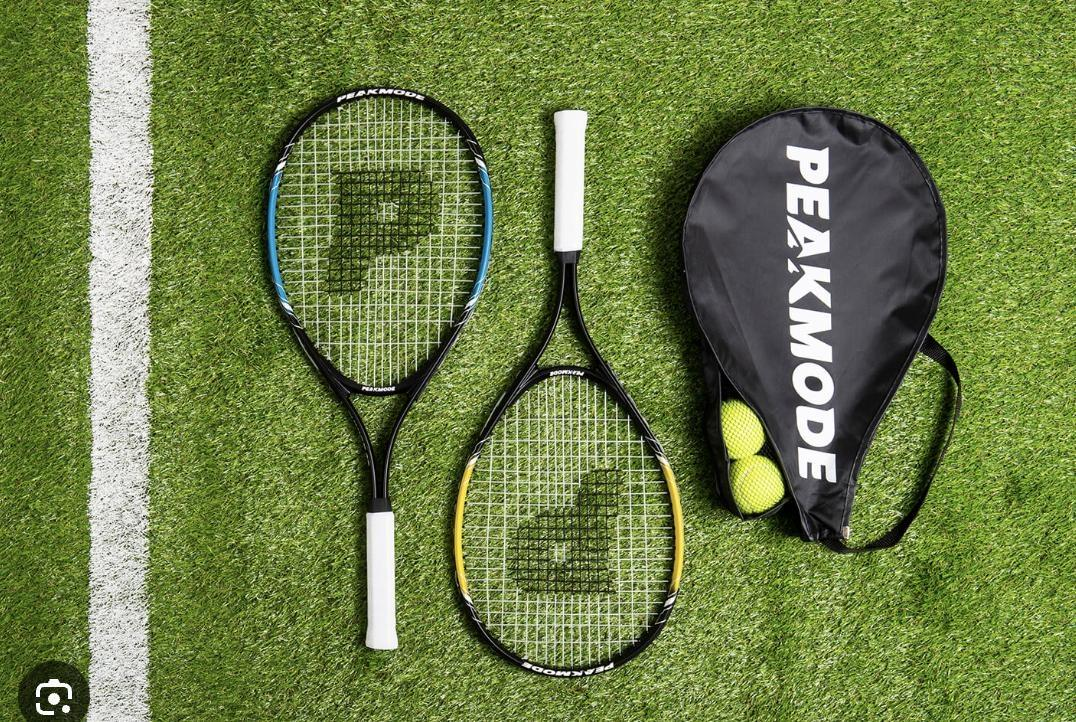Tennis-Racket: (454, 112, 683, 676), (267, 88, 492, 650)
